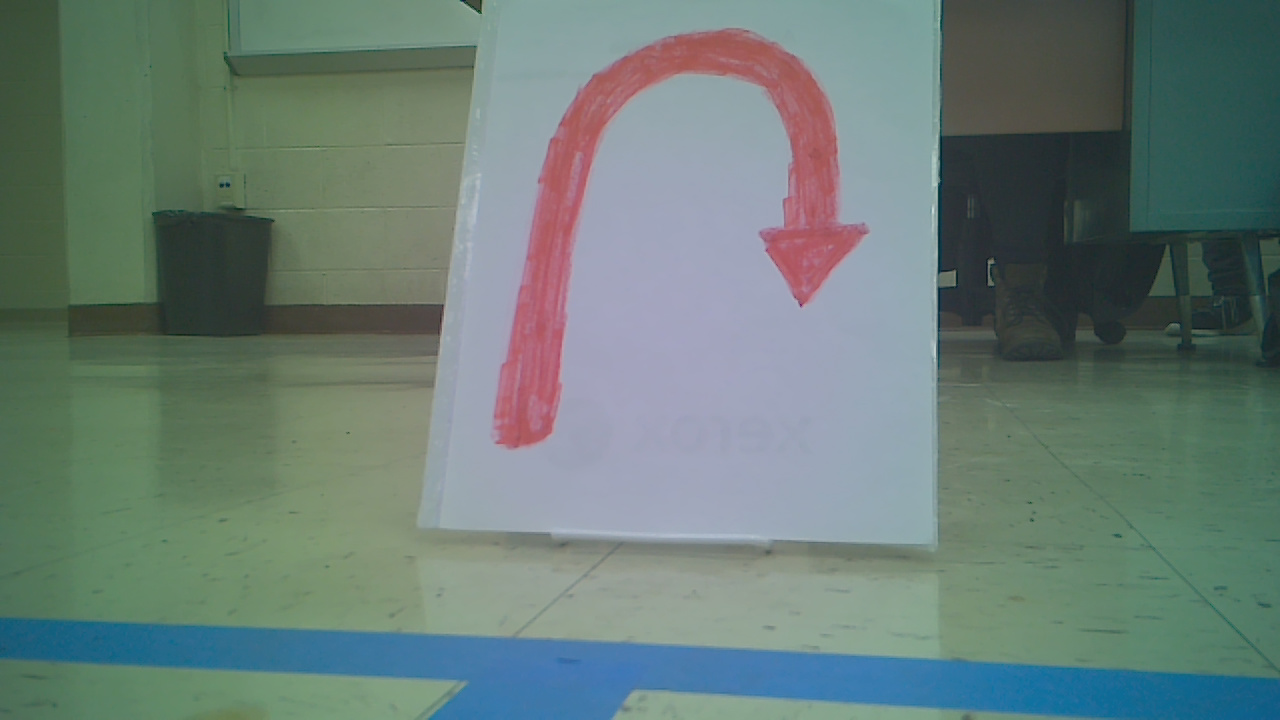uturn: (487, 24, 872, 446)
